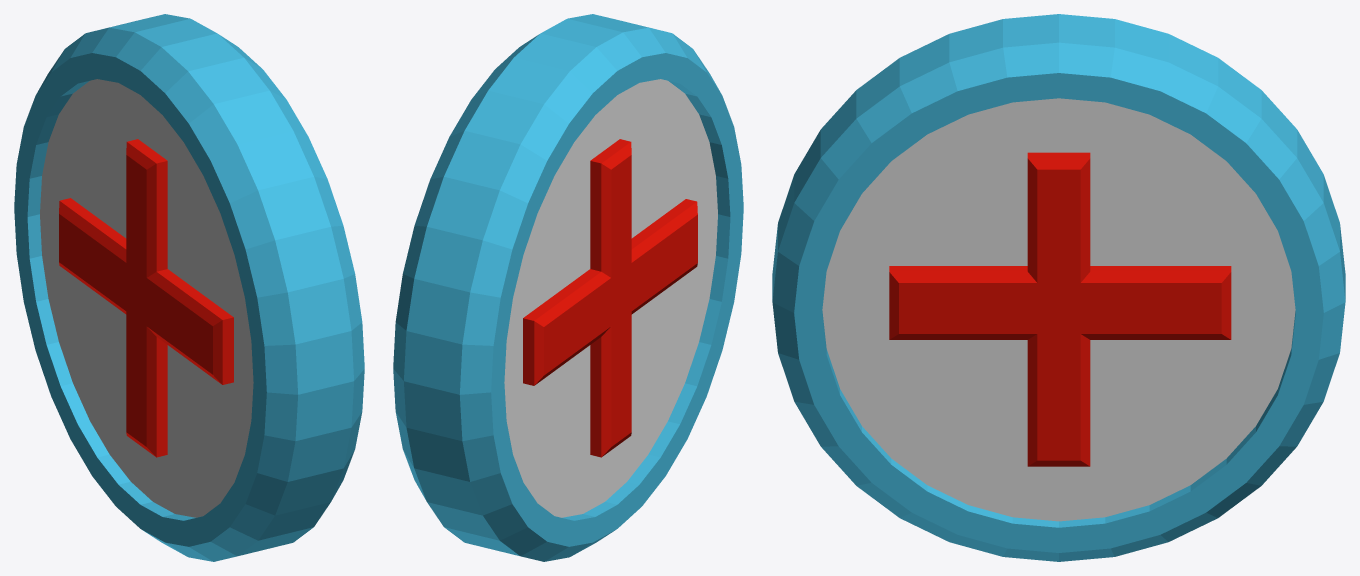
3 views of the same model, side by side, from view 1: azimuth 30°, elevation 25°; view 2: azimuth 150°, elevation 25°; view 3: azimuth 270°, elevation 25° (orthographic). The views are drawn at different scales.
Visible parts, largest first — view 1: Circle; view 2: Circle; view 3: Circle.
Part boxes in pixels (x1=…): Circle: x1=14, y1=14, x2=364, y2=561; Circle: x1=393, y1=14, x2=743, y2=561; Circle: x1=772, y1=14, x2=1345, y2=561.
Bounding box in the file's own units: 44.78 × 200 × 200.
